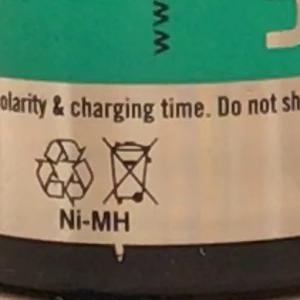NI-MH: (50, 201, 139, 240)
